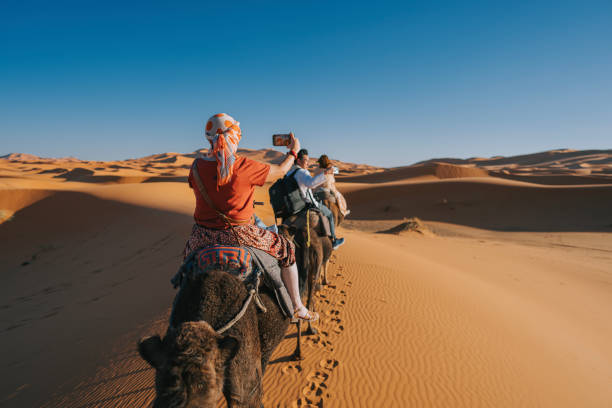animal_foot_print: (302, 381, 330, 403), (304, 331, 333, 351), (281, 363, 303, 375), (307, 370, 328, 382), (319, 358, 338, 371), (325, 309, 339, 316), (332, 325, 343, 333), (339, 290, 346, 295), (346, 281, 351, 286)
